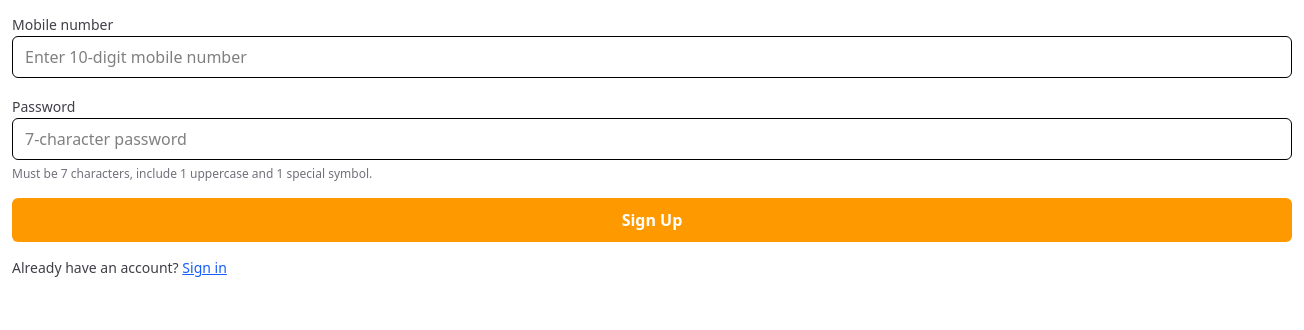
Test case: SignUpForm › rejects password not matching 7-char uppercase+special rule
This screenshot has width=1304, height=330.
In the field labelled "Mobile number": x=652, y=57 [12,36,1292,78], type "1234567890"
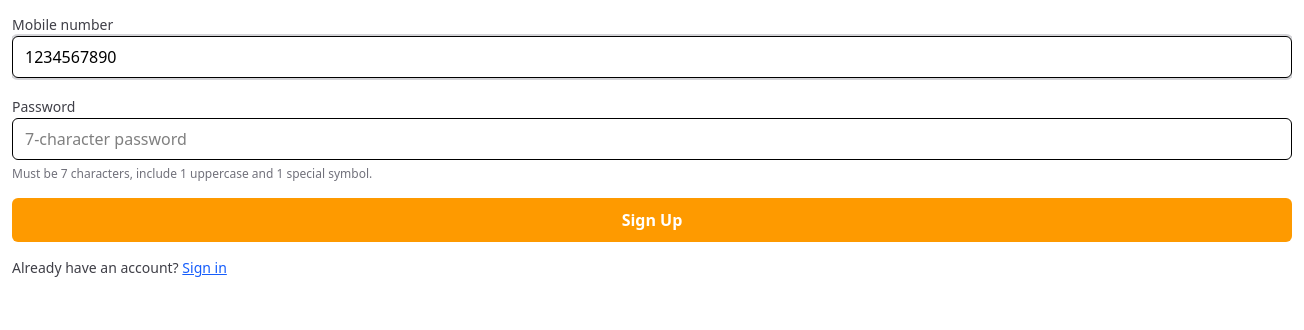
In the password field labelled "Password": x=652, y=139 [12,118,1292,160], type "abcdef!"
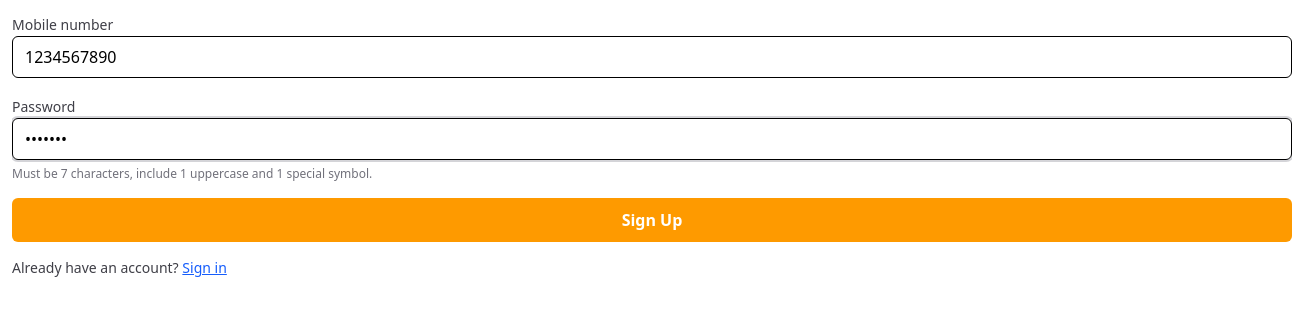
Click the button "Sign Up": x=652, y=220 [12,198,1292,242]
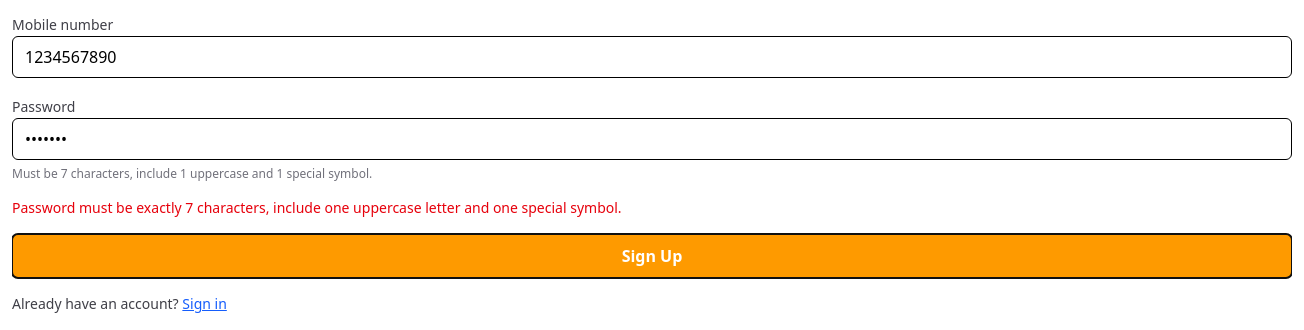
Expected: the text "password must be exactly 7 characters, include one uppercase letter and one special symbol" is shown, [12,198,622,217]
